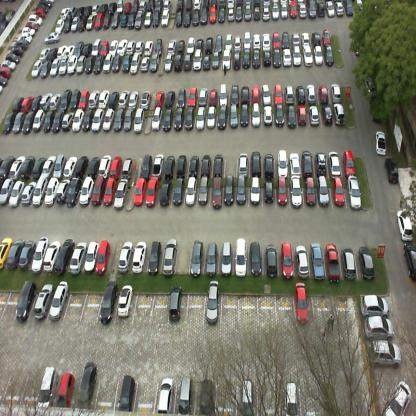car: (76, 361, 99, 407), (384, 378, 410, 416), (368, 341, 402, 370), (37, 364, 59, 408), (28, 288, 51, 324), (46, 290, 69, 326), (96, 288, 118, 324), (360, 294, 389, 320), (354, 240, 374, 277), (114, 289, 136, 322), (364, 318, 394, 342), (168, 291, 189, 325), (13, 289, 36, 320), (293, 280, 309, 324), (145, 240, 165, 275), (395, 206, 415, 241), (324, 242, 342, 280), (202, 293, 221, 329), (157, 376, 175, 414), (57, 372, 75, 409), (30, 236, 48, 272), (41, 239, 60, 273), (68, 240, 87, 274), (119, 374, 136, 411), (76, 176, 94, 210), (144, 177, 162, 211), (293, 243, 311, 277), (53, 241, 72, 273), (82, 240, 100, 273), (340, 241, 356, 278), (88, 174, 105, 208), (278, 244, 295, 278), (310, 242, 326, 278), (6, 240, 25, 270), (160, 241, 177, 274), (178, 375, 192, 415), (203, 241, 218, 278), (199, 378, 214, 415), (170, 176, 186, 210), (188, 242, 204, 276), (263, 243, 279, 277), (344, 176, 362, 206), (234, 241, 249, 277), (65, 176, 81, 209), (113, 177, 129, 210), (156, 178, 172, 211), (132, 240, 148, 273), (217, 242, 233, 275), (100, 178, 116, 210), (96, 244, 113, 274), (248, 240, 263, 274), (18, 240, 35, 270), (403, 243, 416, 282), (316, 177, 332, 208), (32, 175, 48, 206), (283, 382, 298, 415), (241, 377, 254, 415), (314, 148, 330, 178), (118, 242, 134, 272), (0, 235, 14, 269), (133, 177, 146, 212), (73, 154, 91, 179), (341, 149, 357, 177), (84, 153, 101, 179), (9, 153, 26, 179), (330, 179, 345, 208), (44, 176, 59, 205), (197, 179, 211, 210), (288, 180, 304, 207), (122, 106, 137, 134), (288, 147, 302, 177), (301, 148, 315, 178), (235, 179, 249, 209), (262, 178, 276, 208), (276, 179, 290, 209), (0, 177, 15, 205), (90, 106, 106, 132), (96, 154, 112, 180), (9, 180, 25, 206), (328, 148, 342, 177), (209, 180, 223, 209), (276, 148, 289, 179), (304, 178, 317, 209), (122, 155, 138, 180), (101, 107, 115, 135), (112, 107, 126, 135), (18, 155, 35, 178), (332, 101, 347, 127), (186, 152, 201, 178), (21, 180, 36, 206), (109, 155, 125, 179), (0, 155, 16, 179), (248, 150, 262, 177), (184, 179, 196, 210), (133, 108, 147, 134), (149, 154, 163, 180), (56, 177, 70, 203), (53, 151, 67, 177), (385, 158, 399, 184), (138, 155, 153, 179), (263, 147, 275, 177), (249, 179, 261, 209), (150, 106, 163, 133), (164, 152, 178, 177), (199, 152, 213, 177), (210, 152, 224, 177), (224, 179, 236, 208), (174, 153, 188, 177), (22, 110, 36, 134), (63, 154, 78, 176), (32, 107, 45, 132), (375, 128, 387, 155), (32, 157, 47, 178), (194, 107, 206, 133), (12, 110, 25, 134), (162, 107, 174, 132), (238, 105, 250, 130), (237, 152, 249, 177), (42, 154, 57, 174), (72, 107, 84, 132), (311, 102, 322, 128), (321, 104, 334, 126), (82, 110, 95, 132), (92, 53, 105, 75), (262, 105, 274, 128), (274, 105, 286, 128), (298, 105, 310, 128), (60, 89, 72, 112), (184, 106, 194, 133), (216, 107, 227, 131), (3, 112, 15, 134), (323, 45, 335, 67), (174, 108, 184, 134), (97, 88, 110, 108), (42, 111, 54, 132), (102, 53, 114, 74), (252, 105, 262, 130), (205, 108, 216, 130), (228, 106, 239, 128), (52, 112, 64, 132), (78, 88, 90, 108), (49, 56, 61, 76), (11, 96, 25, 113), (286, 105, 297, 126), (58, 56, 69, 77), (273, 82, 283, 105), (67, 52, 77, 75), (118, 88, 130, 107), (302, 46, 314, 65), (188, 85, 198, 107), (291, 46, 302, 66), (130, 53, 141, 73), (62, 112, 74, 130), (32, 94, 44, 112), (140, 90, 152, 108), (219, 82, 228, 106), (39, 60, 51, 78), (230, 83, 240, 104), (313, 45, 323, 66), (272, 47, 282, 68), (222, 49, 232, 70), (70, 88, 81, 107), (128, 88, 139, 107), (166, 87, 177, 106), (122, 53, 133, 72), (30, 59, 42, 76), (262, 84, 272, 104), (284, 84, 294, 104), (318, 85, 328, 105), (331, 82, 341, 102), (262, 48, 272, 68), (150, 52, 160, 72), (76, 54, 86, 74), (89, 88, 100, 106), (193, 48, 202, 70), (321, 27, 332, 45), (325, 0, 336, 18), (22, 96, 34, 112), (176, 88, 186, 107), (208, 88, 218, 107), (112, 53, 122, 72), (154, 88, 165, 105), (84, 55, 95, 72), (40, 93, 52, 108), (109, 88, 119, 106), (199, 86, 208, 106), (174, 52, 184, 70), (92, 37, 102, 55), (1, 58, 16, 70), (102, 11, 112, 29), (134, 11, 144, 29), (296, 84, 305, 103), (50, 93, 60, 110), (164, 53, 174, 70), (86, 13, 96, 30), (94, 13, 104, 30), (0, 66, 11, 81), (354, 0, 365, 15), (306, 83, 315, 101), (283, 48, 292, 66), (202, 52, 211, 70), (233, 49, 241, 69), (212, 50, 220, 70), (291, 32, 301, 48), (135, 38, 145, 54), (117, 36, 127, 52), (100, 38, 110, 54), (127, 12, 137, 28), (161, 8, 169, 28), (7, 51, 20, 63), (57, 42, 68, 56), (39, 45, 50, 59), (44, 31, 58, 42), (28, 13, 42, 24), (184, 51, 193, 68), (144, 39, 153, 56), (71, 16, 80, 33), (111, 11, 120, 28), (200, 6, 209, 23), (252, 49, 260, 68), (242, 49, 250, 68), (63, 17, 73, 32), (252, 86, 260, 104), (312, 30, 321, 46), (225, 32, 233, 50), (188, 35, 197, 51), (183, 10, 191, 28), (317, 0, 325, 18), (242, 85, 249, 105), (78, 16, 88, 30), (155, 36, 163, 53), (141, 57, 150, 72), (177, 36, 186, 51), (168, 37, 177, 52), (336, 0, 345, 15), (244, 31, 251, 50), (48, 46, 58, 59), (33, 9, 46, 19), (281, 30, 289, 46), (109, 38, 118, 52), (119, 12, 128, 26), (192, 8, 199, 26), (290, 1, 297, 19), (12, 46, 23, 57), (272, 31, 280, 46), (82, 43, 92, 55), (65, 45, 75, 57), (144, 11, 152, 26), (152, 11, 160, 26), (176, 11, 184, 26), (298, 3, 306, 18), (308, 3, 316, 18), (272, 3, 279, 20), (281, 2, 288, 19), (127, 39, 136, 52), (19, 33, 32, 42), (40, 0, 53, 9), (60, 5, 69, 18), (209, 5, 215, 24), (302, 31, 310, 45), (252, 34, 260, 48), (216, 34, 223, 50), (206, 35, 213, 51), (56, 19, 64, 33), (235, 6, 242, 22), (245, 6, 252, 22), (262, 7, 270, 21), (153, 0, 163, 11), (74, 41, 83, 53), (346, 1, 353, 16), (262, 32, 270, 45), (15, 40, 28, 48), (22, 27, 35, 35), (25, 22, 38, 30), (69, 5, 77, 18), (84, 4, 92, 17), (0, 75, 8, 88), (76, 5, 86, 15), (108, 2, 118, 12), (99, 3, 108, 14), (138, 0, 147, 11), (234, 36, 241, 50), (254, 6, 260, 22), (91, 2, 99, 14), (228, 8, 234, 23), (176, 0, 186, 9), (124, 0, 132, 11), (131, 0, 139, 11), (116, 0, 123, 12), (162, 0, 171, 9), (219, 7, 224, 23), (197, 38, 204, 49), (37, 5, 48, 12), (147, 0, 154, 10), (186, 0, 192, 8)
